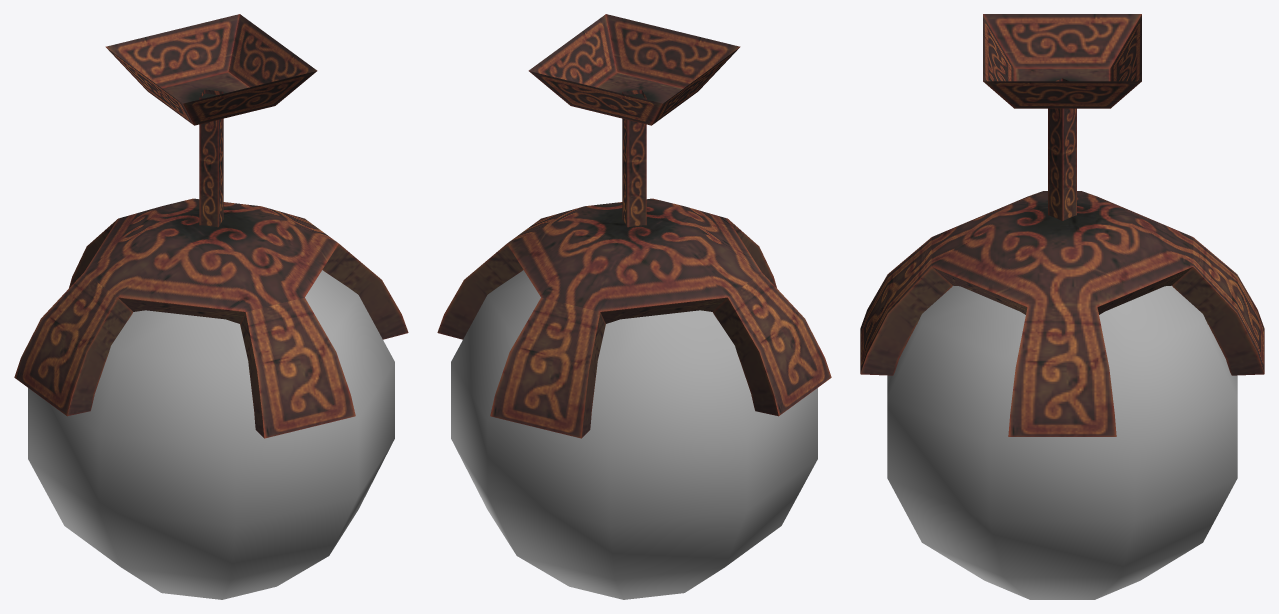
File: dungeon_Lamp.fbx
The picture shows the model from 3 angles, left to right: view 1: azimuth 30°, elevation 25°; view 2: azimuth 150°, elevation 25°; view 3: azimuth 270°, elevation 25°; orthographic projection. The views are drawn at different scales.
Parts seen in each view (by area): view 1: Lamp_light, Lamp; view 2: Lamp_light, Lamp; view 3: Lamp_light, Lamp.
Part boxes in pixels (left/top/right/bottom): Lamp_light: left=28, top=270, right=394, bottom=599; Lamp: left=14, top=14, right=408, bottom=438; Lamp_light: left=451, top=270, right=817, bottom=599; Lamp: left=437, top=14, right=831, bottom=438; Lamp_light: left=887, top=285, right=1237, bottom=599; Lamp: left=860, top=14, right=1264, bottom=436.
Size of the model in its own units: 6.21 by 9.09 by 6.21.
